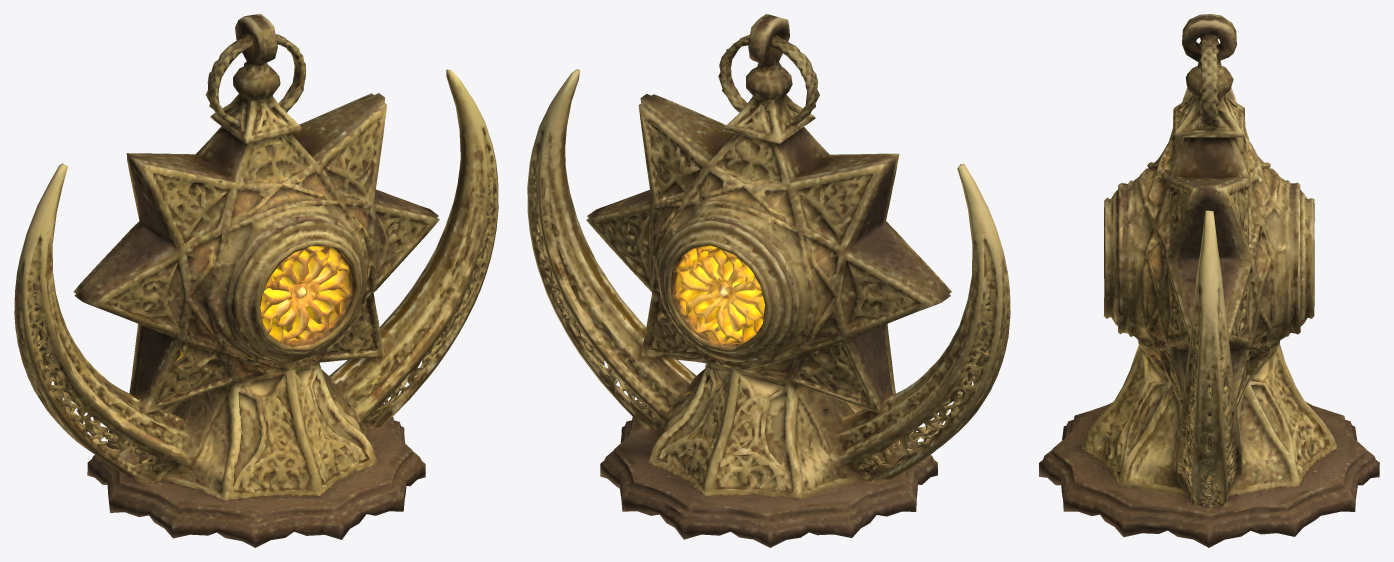
The model's file is Golden_Crescent_Star_.fbx.
The picture shows the model from 3 angles, left to right: view 1: azimuth 30°, elevation 25°; view 2: azimuth 150°, elevation 25°; view 3: azimuth 270°, elevation 25°; orthographic projection.
Visible parts, largest first — view 1: Golden_Crescent_Star__LOD0; view 2: Golden_Crescent_Star__LOD0; view 3: Golden_Crescent_Star__LOD0.
Boxes of the visible parts, left/top/right/bottom form: Golden_Crescent_Star__LOD0: left=14, top=14, right=498, bottom=547; Golden_Crescent_Star__LOD0: left=527, top=14, right=1010, bottom=547; Golden_Crescent_Star__LOD0: left=1039, top=14, right=1379, bottom=547.
Size of what is drawn, in the model's own units: 1.9 by 1.75 by 1.18.
1 material, 1 textured.
